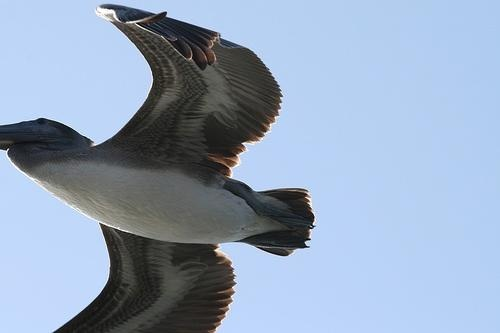bird: (1, 5, 316, 333)
